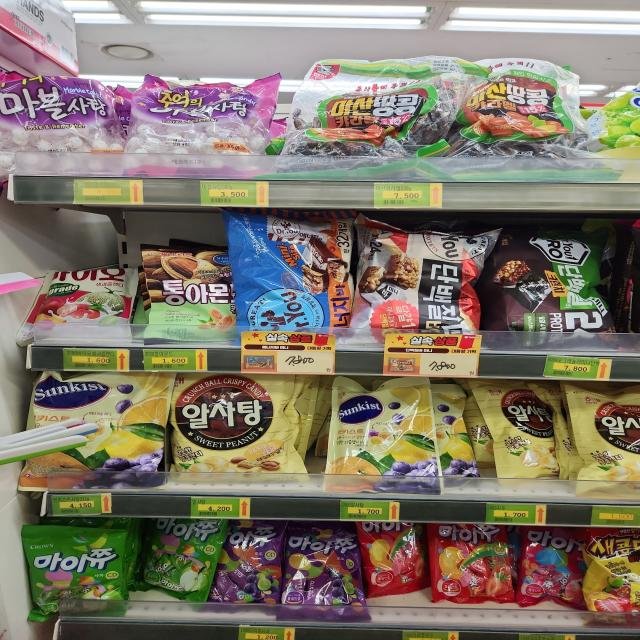product: (279, 56, 449, 178), (451, 56, 606, 178), (227, 205, 351, 348), (359, 215, 482, 353), (34, 368, 166, 493), (489, 230, 619, 352), (169, 371, 306, 483), (135, 78, 268, 174), (335, 384, 440, 499), (23, 532, 125, 620), (279, 526, 369, 620), (140, 243, 233, 325), (428, 526, 512, 605), (522, 528, 588, 609), (423, 260, 468, 340)
